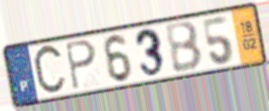3: (134, 26, 169, 81)
5: (200, 14, 235, 67)
6: (102, 32, 135, 85)
B: (163, 19, 205, 75)
C: (31, 41, 69, 100)
P: (63, 38, 99, 93)
